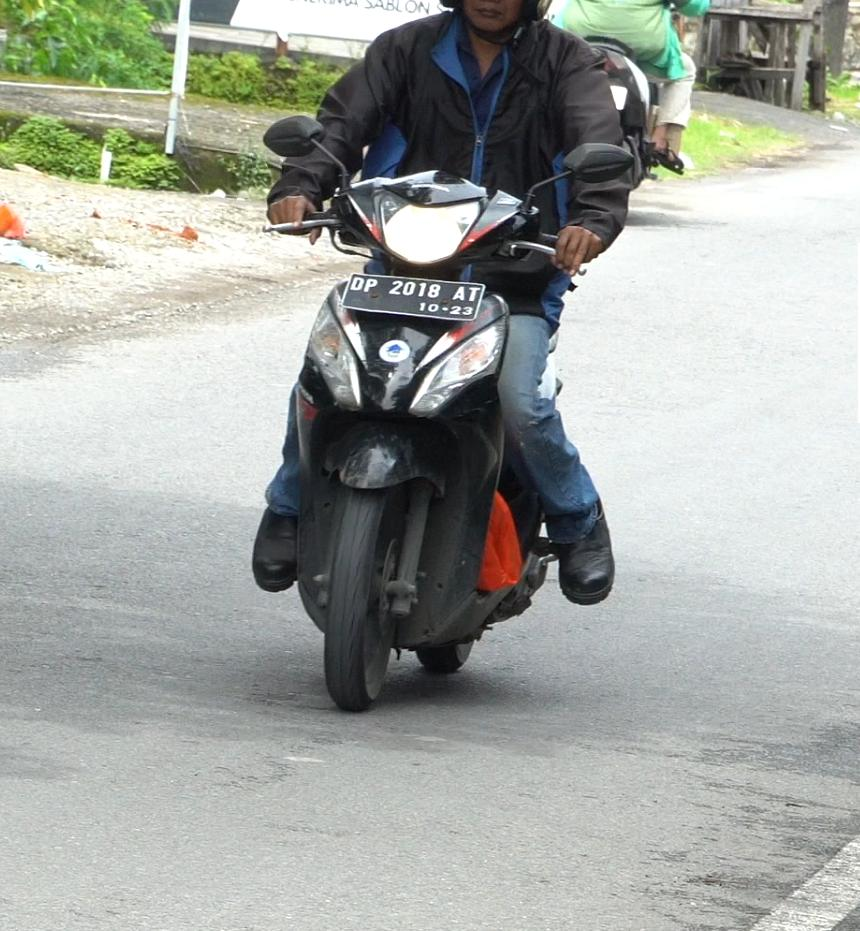number-plate: (338, 273, 484, 326)
